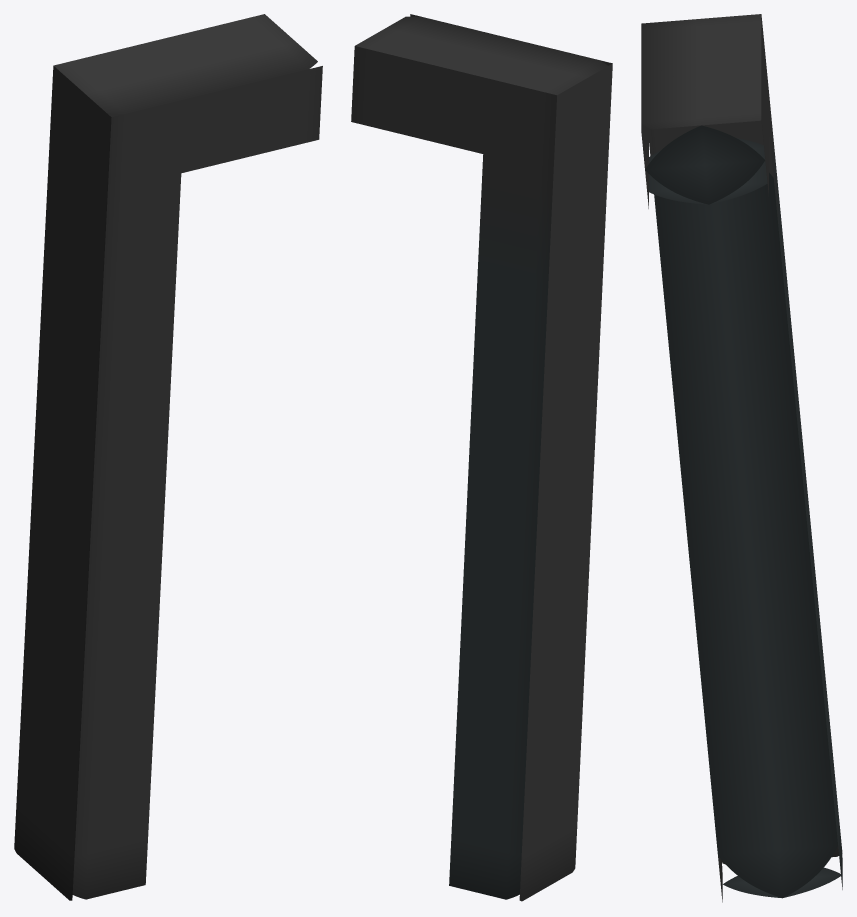
Rendered from reversing_boom_otherside.obj.
3 views of the same model, side by side, from view 1: azimuth 30°, elevation 25°; view 2: azimuth 150°, elevation 25°; view 3: azimuth 270°, elevation 25° (orthographic). The views are drawn at different scales.
Parts seen in each view (by area): view 1: cube; view 2: cube; view 3: cube.
Part boxes in pixels (left/top/right/bottom): cube: left=14, top=14, right=322, bottom=900; cube: left=351, top=14, right=612, bottom=901; cube: left=641, top=14, right=842, bottom=902.
Size of the model in its own units: 0.1437 by 0.5352 by 0.1148.
